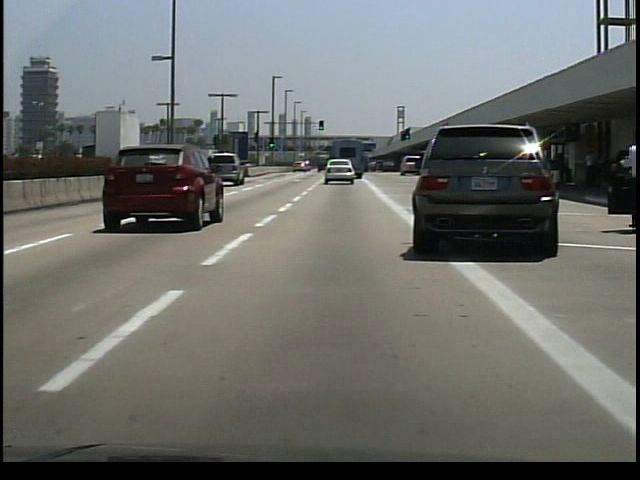person: (609, 129, 638, 229)
